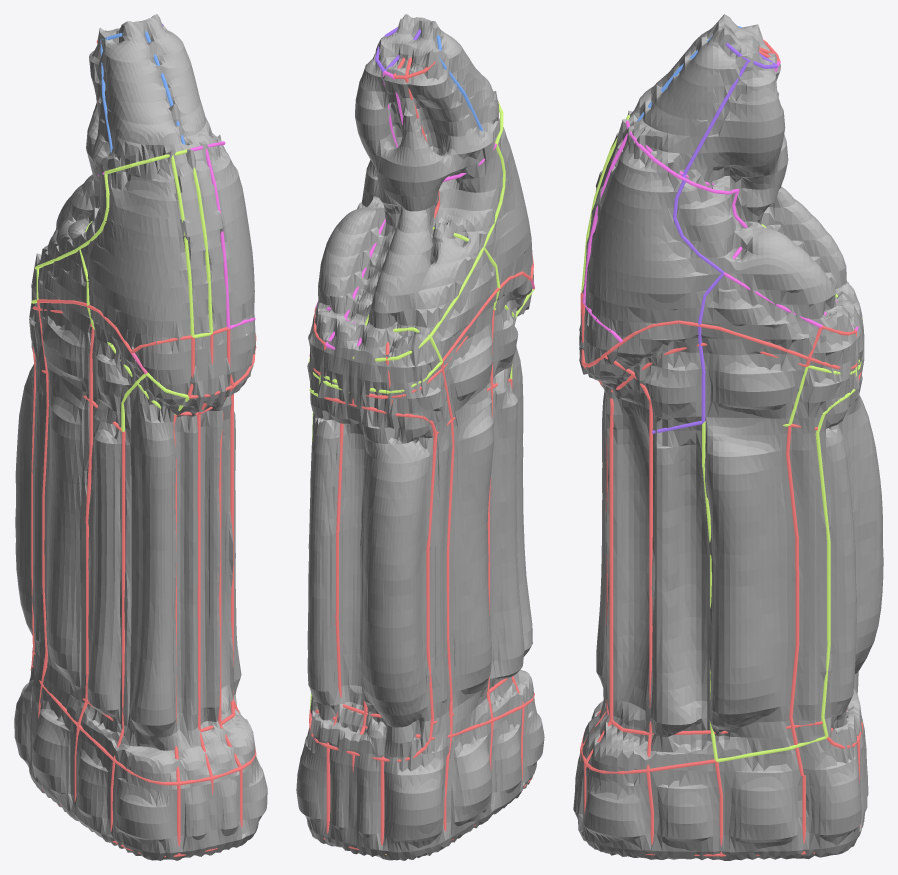
The model's file is flowrep_bottle.gltf.
3 renders of one model, left to right at view 1: azimuth 30°, elevation 25°; view 2: azimuth 150°, elevation 25°; view 3: azimuth 270°, elevation 25°, orthographic. The views are drawn at different scales.
Bounding box in the file's own units: 0.2172 × 0.962 × 0.3341.
